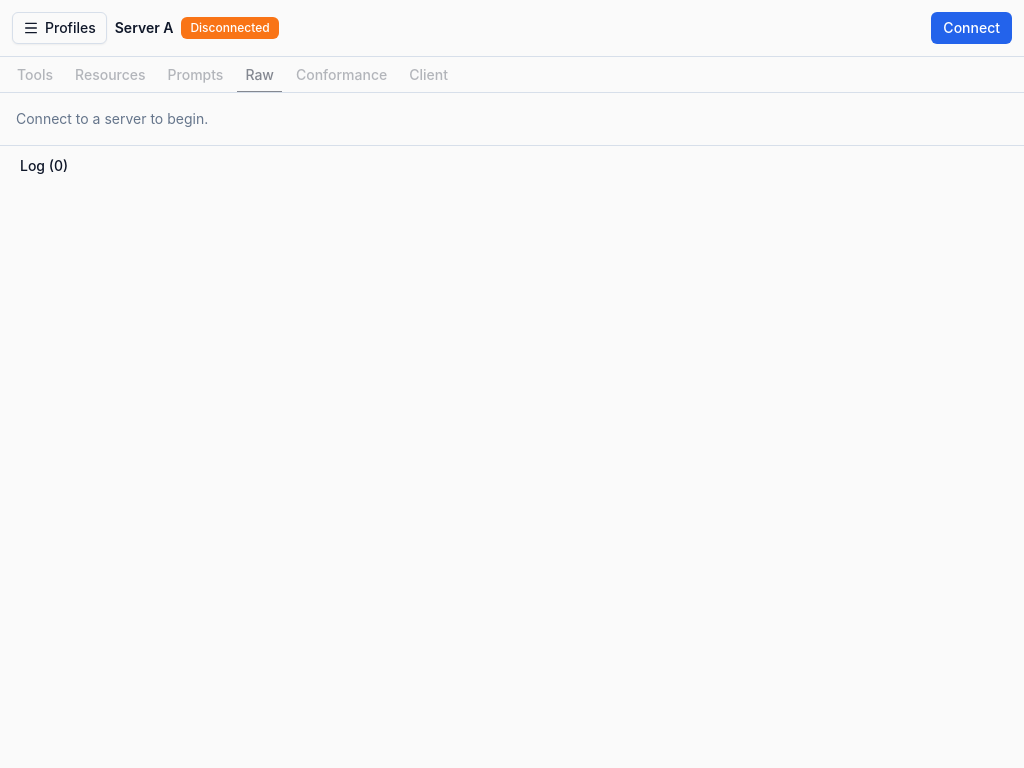
Test: layout › on a narrow viewport the sidebar lives in a Sheet opened by a button
Expected: the field labelled "Server URL" is not shown
Step 1. Click the button "Profiles" → (59, 28), box [12,12,107,44]
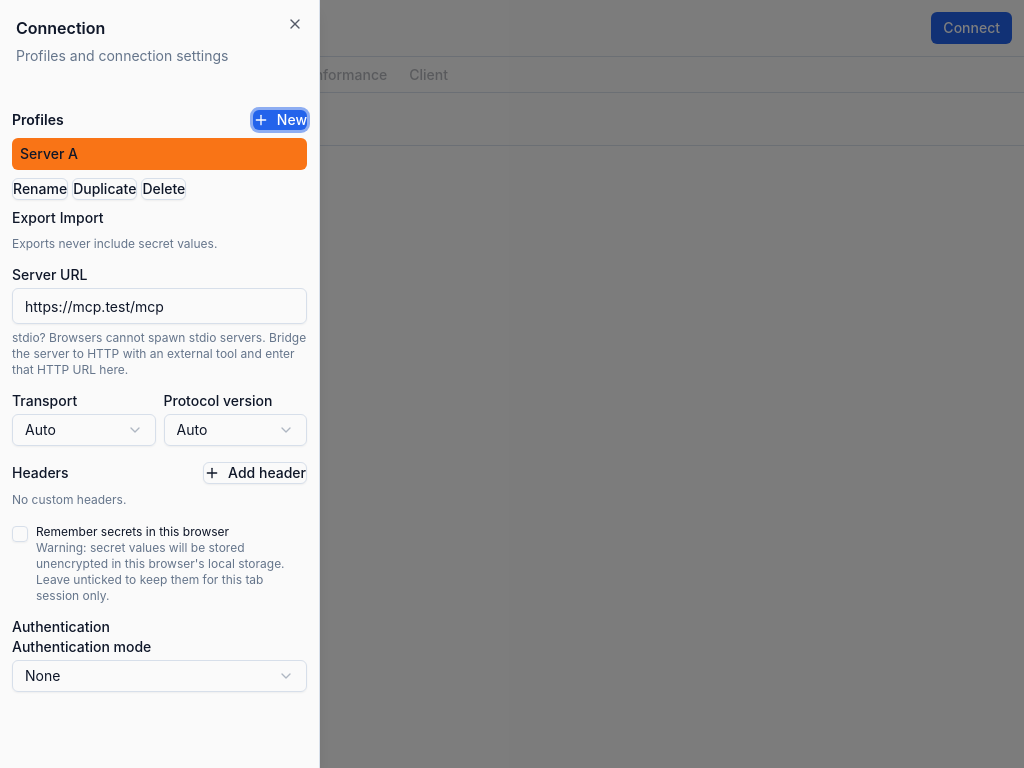
Now the field labelled "Server URL" is shown, box [12,288,307,324]
